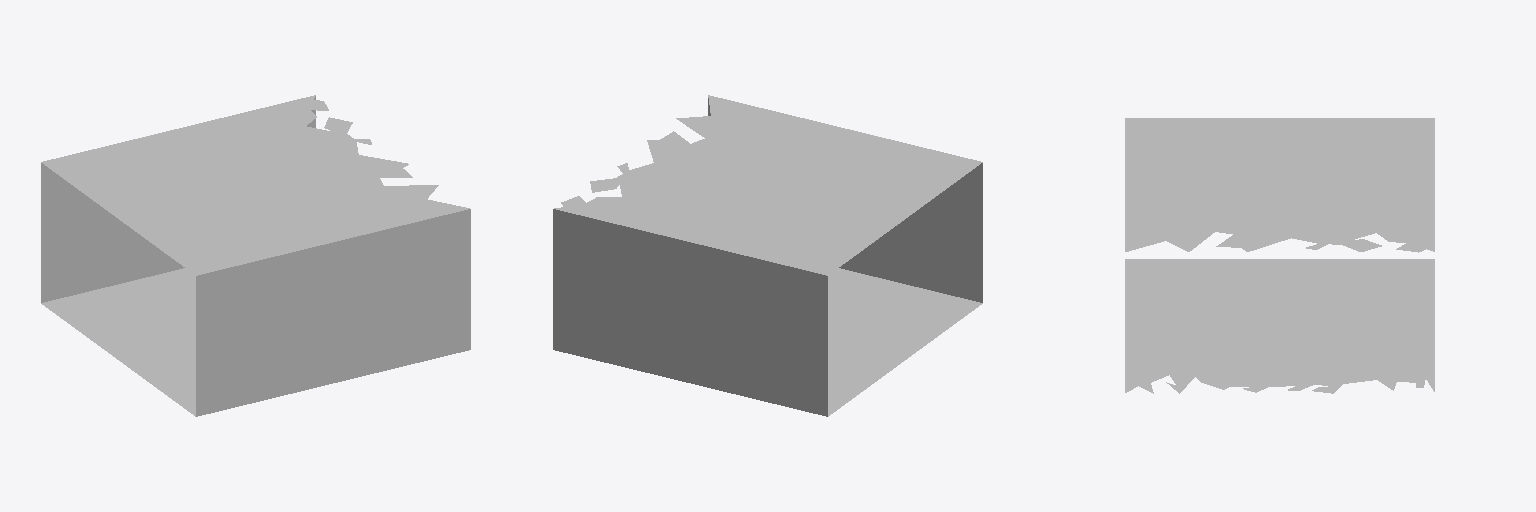
Rendered from Cuarto Dentro.obj.
3 views of the same model, side by side, from view 1: azimuth 30°, elevation 25°; view 2: azimuth 150°, elevation 25°; view 3: azimuth 270°, elevation 25° (orthographic).
Parts seen in each view (by area): view 1: Cuarto_Dentro_Cube.001; view 2: Cuarto_Dentro_Cube.001; view 3: Cuarto_Dentro_Cube.001.
Boxes of the visible parts, x1=… form: Cuarto_Dentro_Cube.001: x1=41, y1=95, x2=470, y2=416; Cuarto_Dentro_Cube.001: x1=553, y1=95, x2=982, y2=416; Cuarto_Dentro_Cube.001: x1=1125, y1=118, x2=1434, y2=393.
Bounding box in the file's own units: 20 × 9.8 × 19.55.